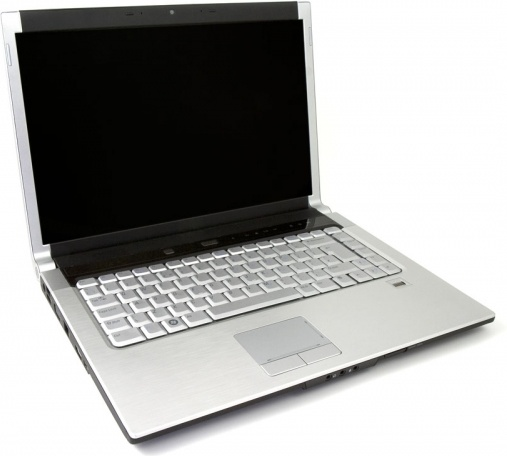laptop: (5, 9, 432, 382)
